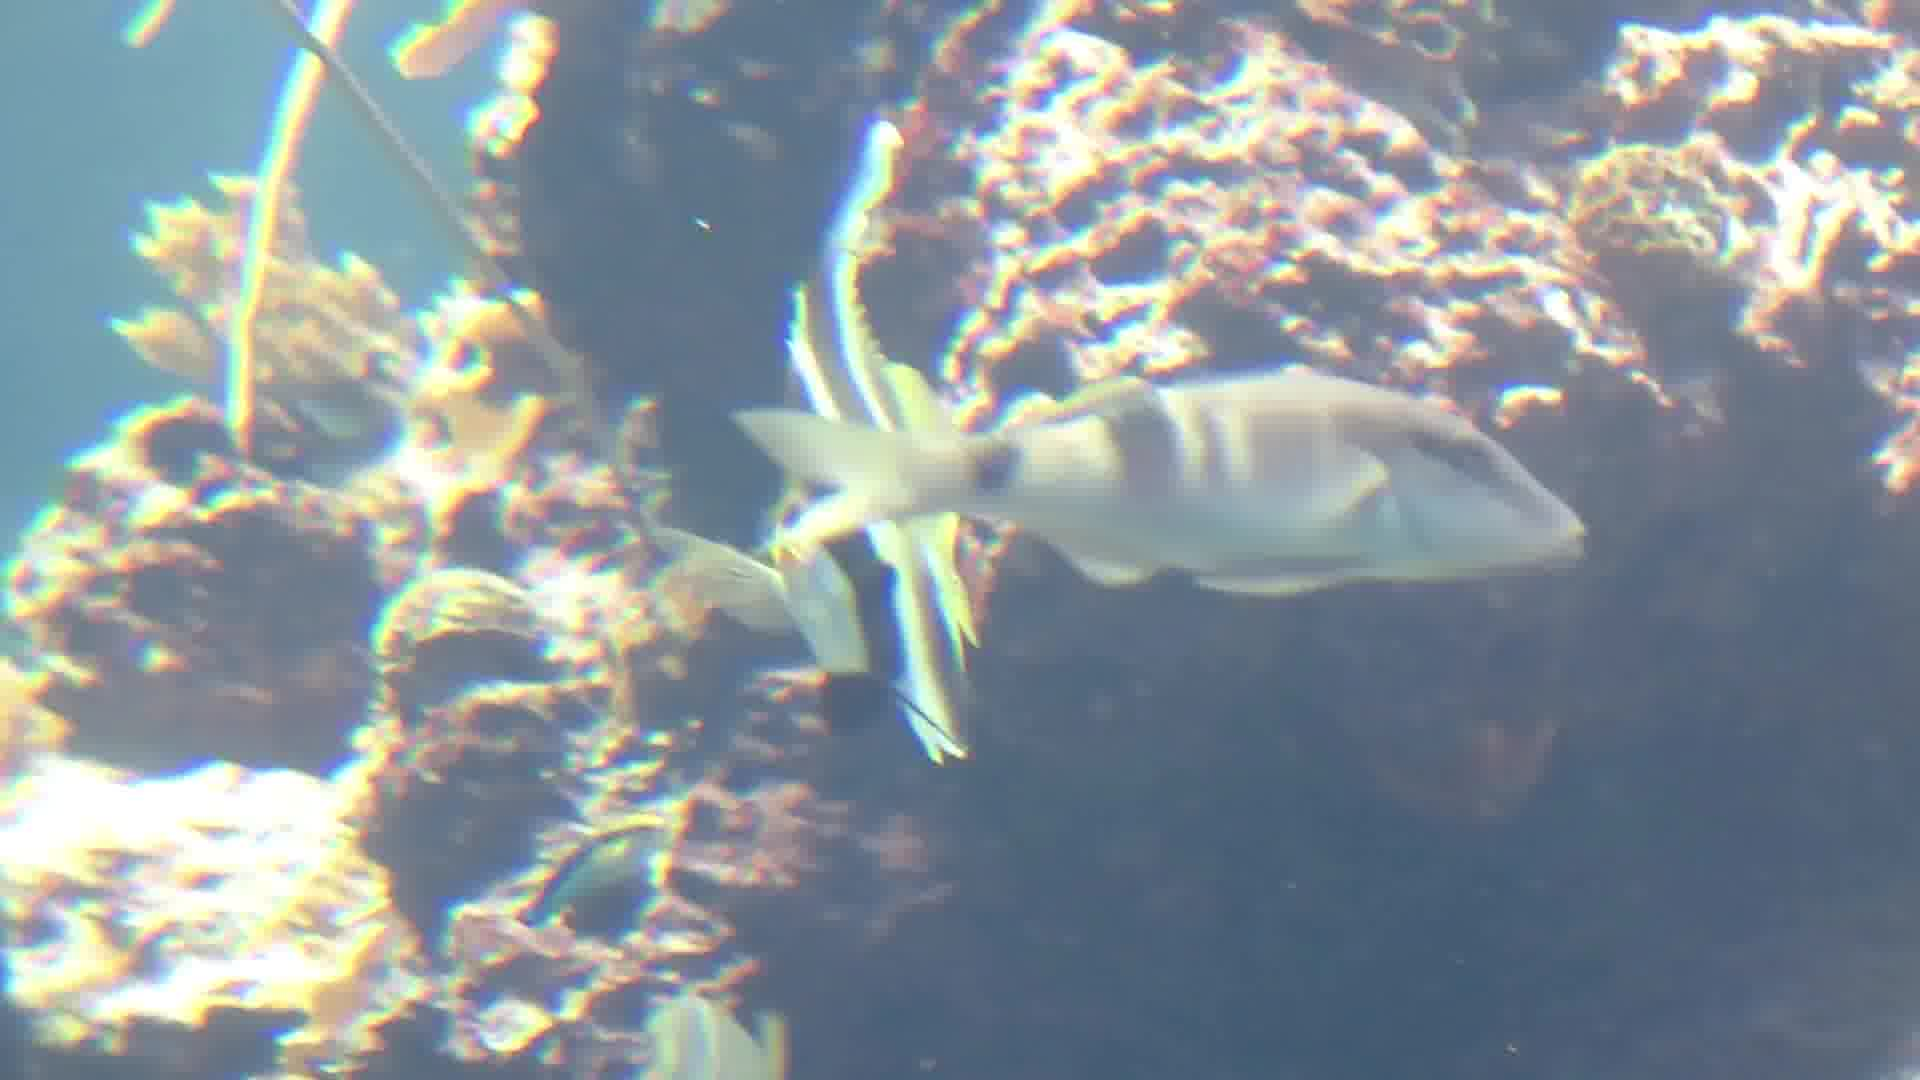Heniochus chrysostomus: (673, 111, 1084, 750)
